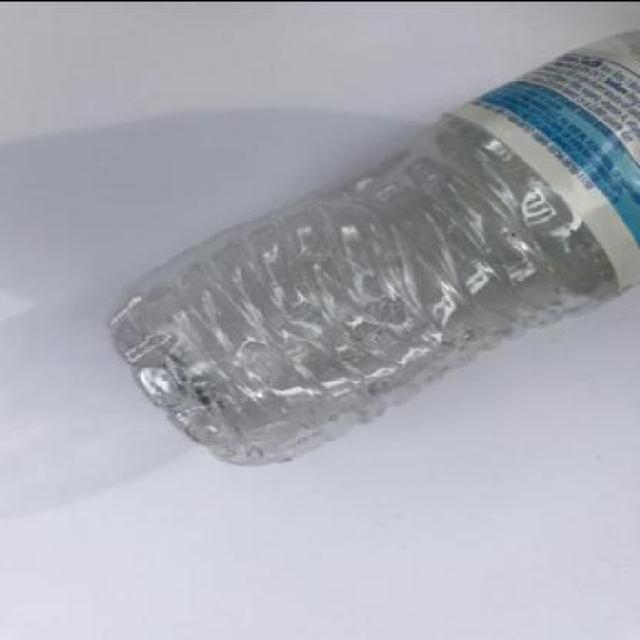PLASTIC: (111, 31, 640, 463), (447, 46, 640, 290)
